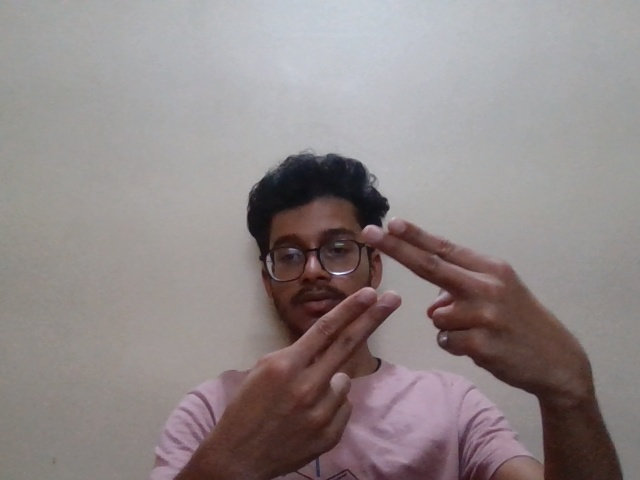my-name-is: (229, 216, 568, 463)
